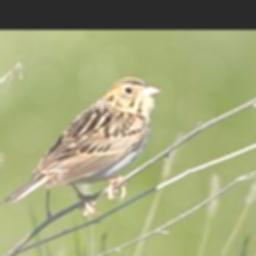Sparrow: (0, 76, 163, 217)
